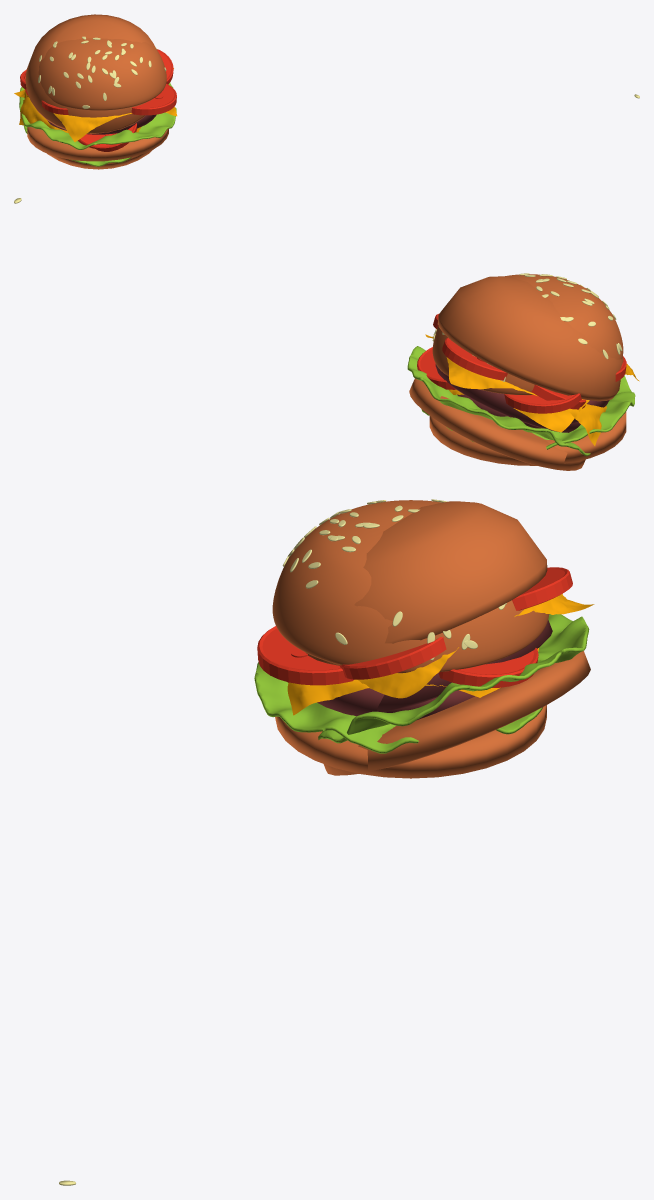
File: Burger.glb
The picture shows the model from 3 angles, top to bottom: view 1: azimuth 30°, elevation 25°; view 2: azimuth 150°, elevation 25°; view 3: azimuth 270°, elevation 25°; orthographic projection. The views are drawn at different scales.
Parts seen in each view (by area): view 1: bred up.001, bred up, bred down.001, green .002, Plane.003, tomato.004, Plane, bred down, tomato, green, meat.001, tomato.003; view 2: bred up, bred up.001, bred down, bred down.001, green, Plane, green .002, meat, tomato.006, tomato.002, Plane.003, tomato.007 (+1 smaller); view 3: bred up.001, bred up, bred down, bred down.001, green, green .002, tomato.004, Plane, tomato.003, tomato.007, meat.001, Plane.003 (+2 smaller).
Part boxes in pixels (<box>): bred up.001: <box>38,36,166,110</box>; bred up: <box>25,14,157,133</box>; bred down.001: <box>27,127,168,161</box>; green .002: <box>21,107,176,149</box>; Plane.003: <box>14,89,177,141</box>; tomato.004: <box>131,84,176,115</box>; Plane: <box>19,68,173,132</box>; bred down: <box>47,149,153,169</box>; tomato: <box>78,123,136,151</box>; green: <box>19,82,173,166</box>; meat.001: <box>47,114,156,134</box>; tomato.003: <box>157,49,173,84</box>; bred up: <box>438,276,623,401</box>; bred up.001: <box>432,273,623,395</box>; bred down: <box>409,378,585,470</box>; bred down.001: <box>429,411,626,465</box>; green: <box>407,346,590,456</box>; Plane: <box>425,334,606,445</box>; green .002: <box>421,375,635,449</box>; meat: <box>435,364,580,432</box>; tomato.006: <box>504,393,581,413</box>; tomato.002: <box>442,337,507,380</box>; Plane.003: <box>449,364,639,432</box>; tomato.007: <box>417,347,455,389</box>; bred up.001: <box>272,499,549,673</box>; bred up: <box>306,501,547,665</box>; bred down: <box>323,651,590,775</box>; bred down.001: <box>275,705,546,778</box>; green: <box>318,614,589,743</box>; green .002: <box>254,662,542,753</box>; tomato.004: <box>257,626,353,685</box>; Plane: <box>357,594,594,698</box>; tomato.003: <box>339,637,446,679</box>; tomato.007: <box>438,648,538,687</box>; meat.001: <box>317,688,474,720</box>; Plane.003: <box>287,648,538,715</box>.
Size of the model in its own units: 10.51 by 2.42 by 4.68.
